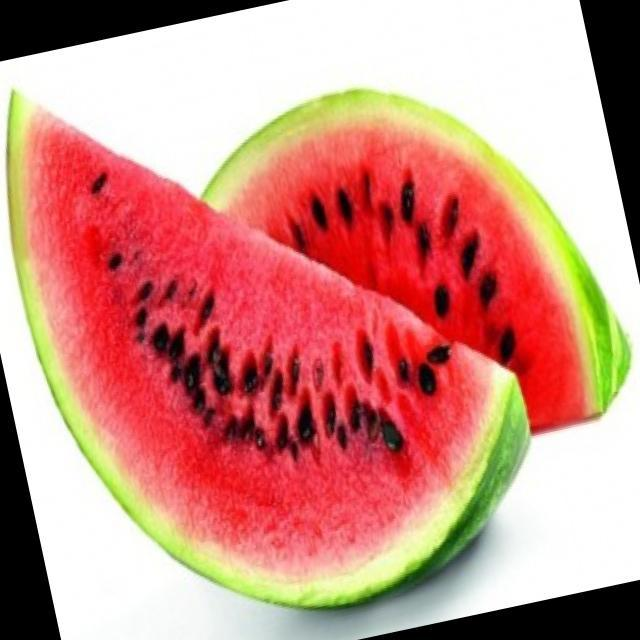WATERMELON: (0, 0, 558, 640), (185, 51, 632, 488)
